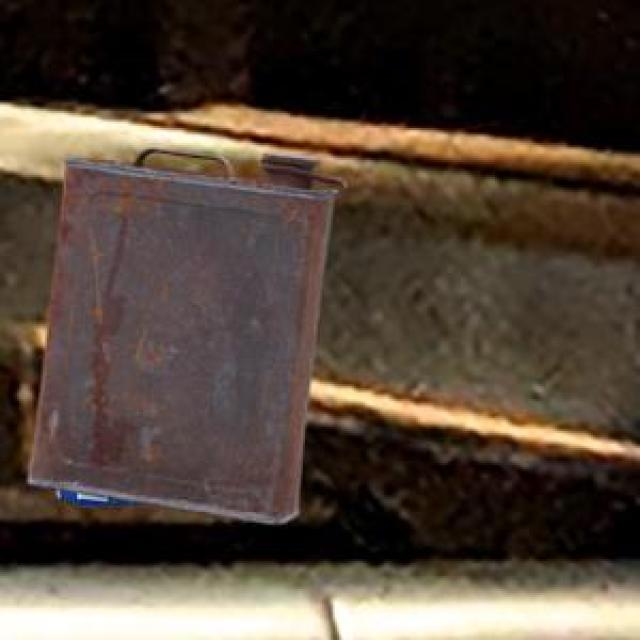logam: (25, 146, 342, 522), (54, 487, 138, 502)
